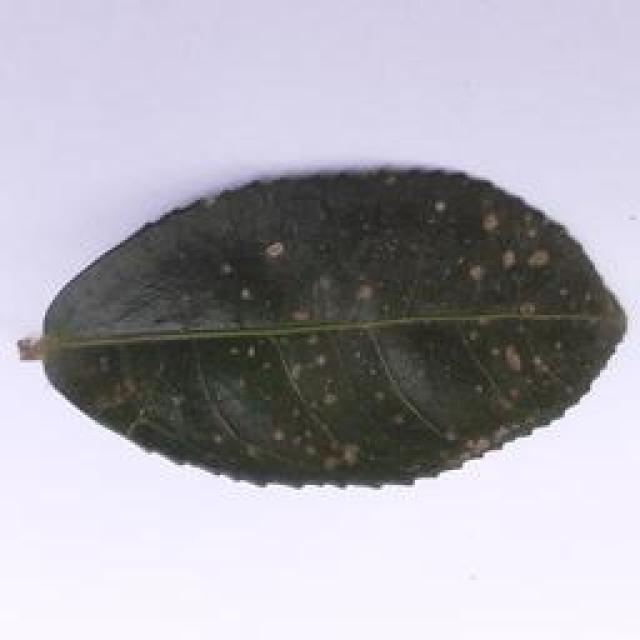Algal Leaf Spot: (23, 161, 622, 505)
